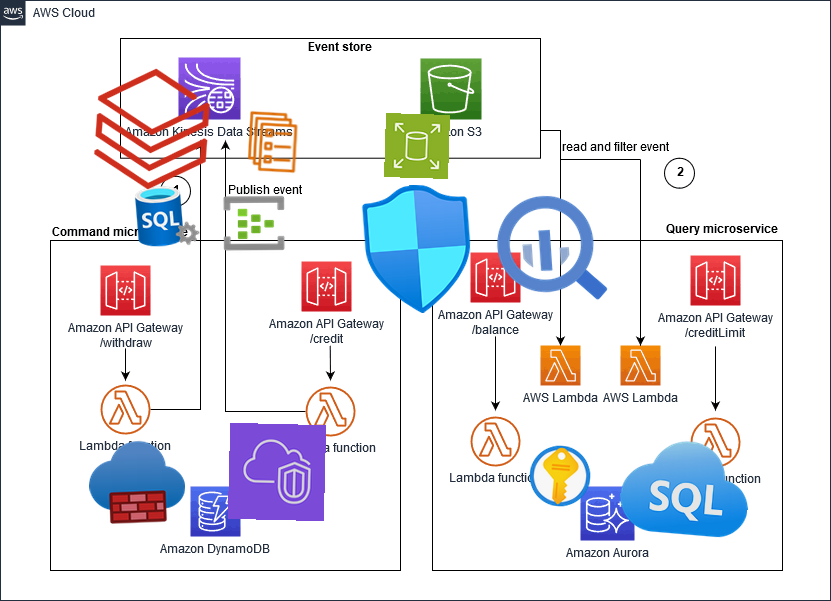aws_amazon_elastic_block_store: (384, 113, 450, 179)
aws_amazon_virtual_private_cloud: (227, 422, 327, 522)
aws_elastic_container_service_service: (239, 108, 307, 176)
azure_databricks: (83, 60, 221, 198)
azure_event_hubs: (221, 190, 287, 256)
azure_firewalls: (87, 432, 187, 532)
azure_key_vaults: (525, 441, 595, 511)
azure_network_security_groups: (349, 180, 487, 318)
azure_sql: (615, 420, 755, 560)
azure_sql_server: (132, 181, 202, 251)
gcp_bigquery: (482, 180, 620, 318)
